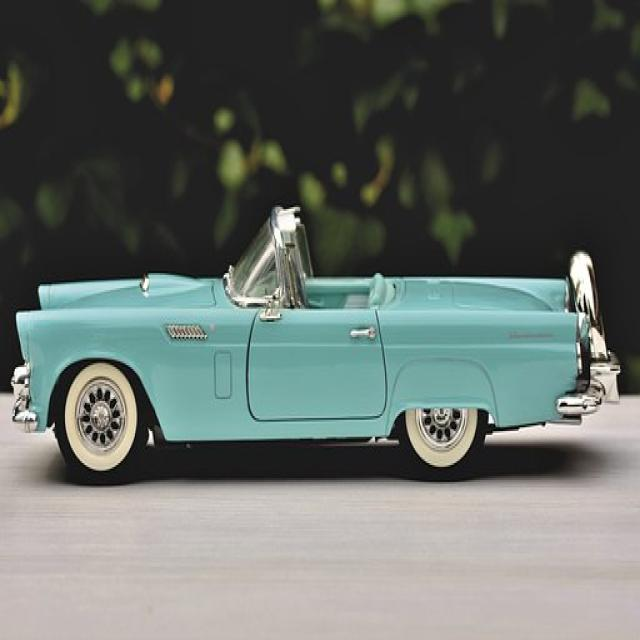Car: (10, 203, 621, 486)
